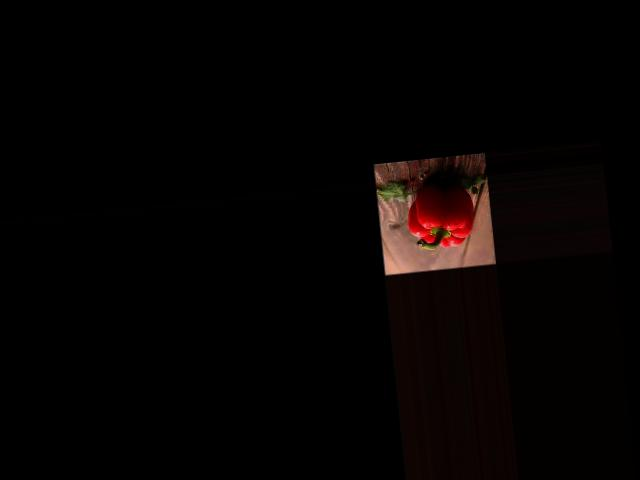bell_pepper: (401, 177, 481, 256)
